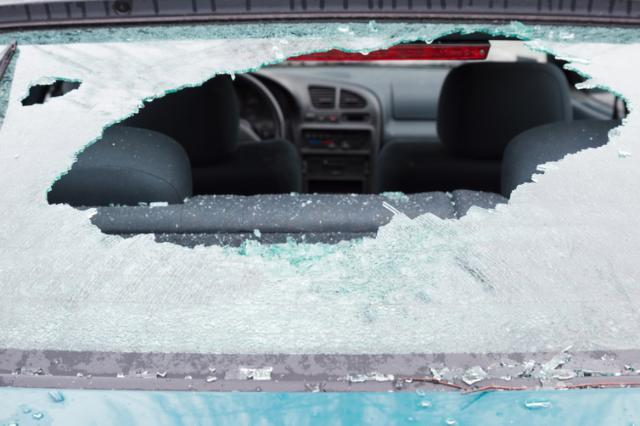Windshield: (1, 34, 640, 382)
